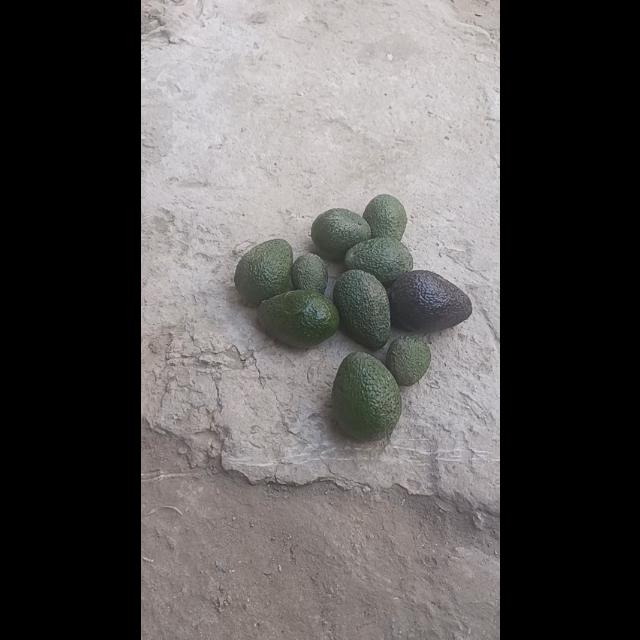Primera: (330, 350, 400, 440), (386, 268, 472, 334), (256, 288, 338, 348), (332, 268, 391, 348), (232, 238, 294, 308), (344, 238, 412, 286)
Segunda: (310, 206, 370, 260), (361, 194, 407, 242)
Tercera: (385, 334, 431, 386), (290, 252, 328, 292)
